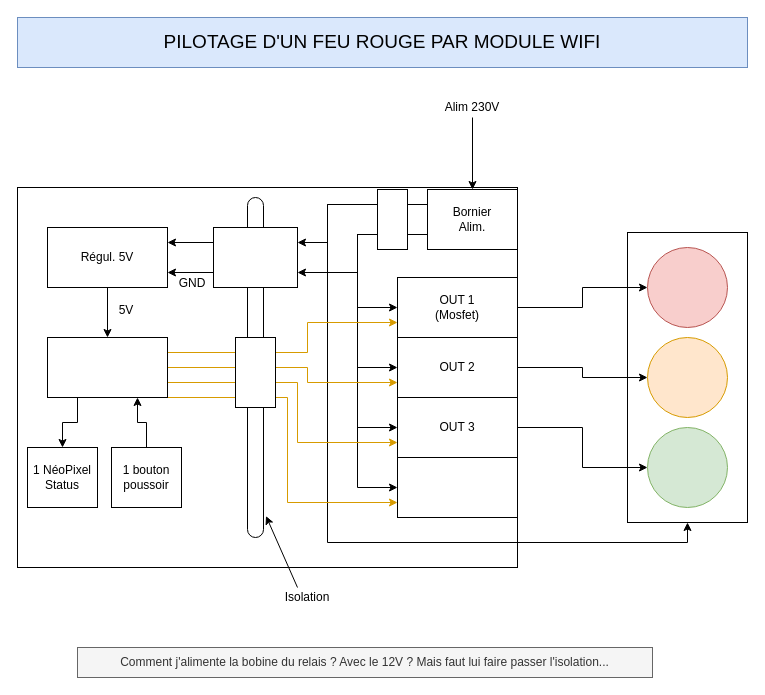
Some shapes in this 765 by 695 pixel diagram are drawn without their labels. Here are the shapes that lost their labels. From the top down, the centre of each, then its label:
At (392,219): "FUSE".
At (255,257): "AC / DC 12V".
At (107,367): "ESP8266 WROOM Lightkit v2.0".
At (255,372): "Optos".
At (457,487): "OUT 4 (Relais + Diode)".
